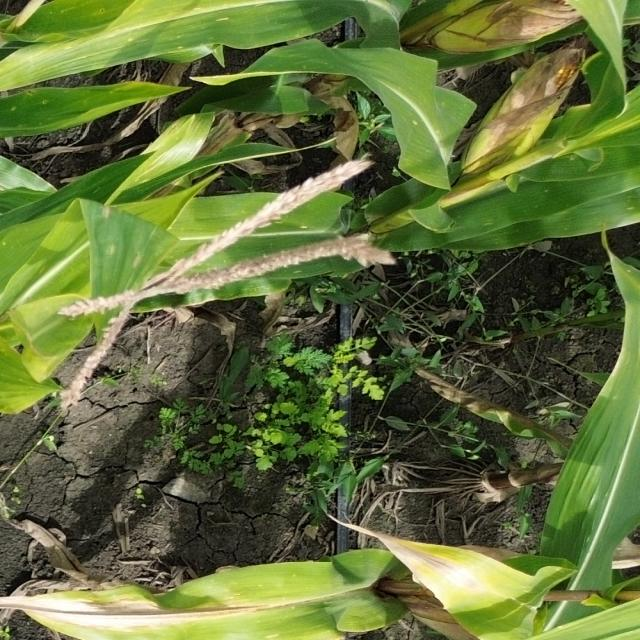gray-leaf-spot: (146, 4, 234, 52), (258, 217, 317, 275), (99, 204, 147, 272), (144, 126, 206, 169)
northern-leaf-blight: (49, 582, 294, 638), (400, 539, 509, 606)
southern-leaf-blight: (401, 93, 460, 179)
